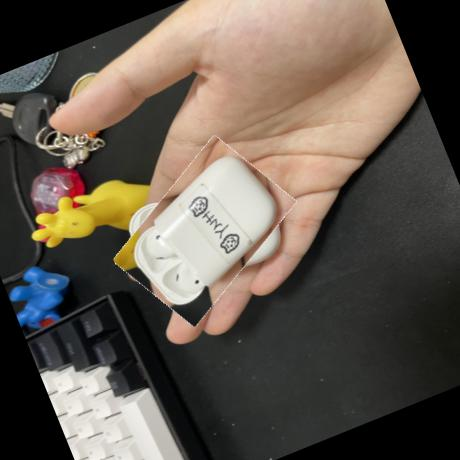airpod2: (96, 134, 314, 329)
